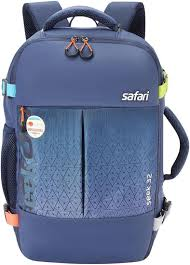backpack: (0, 1, 189, 264)
